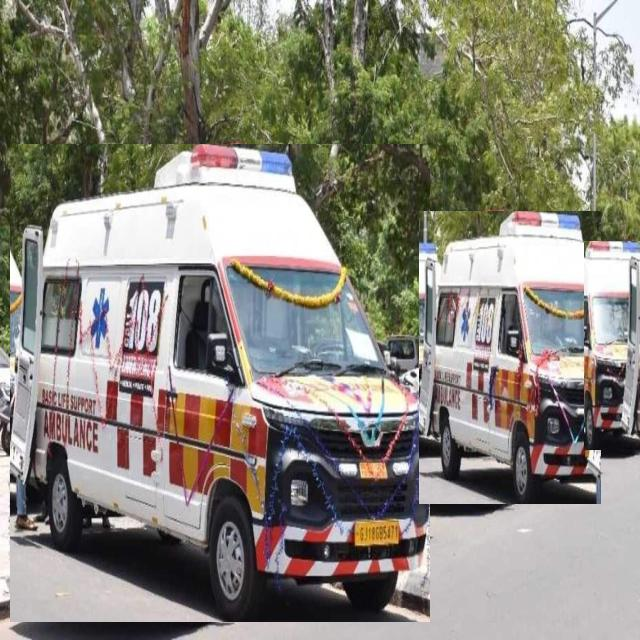emergency: (10, 144, 430, 622), (419, 211, 601, 504), (584, 242, 640, 450)
